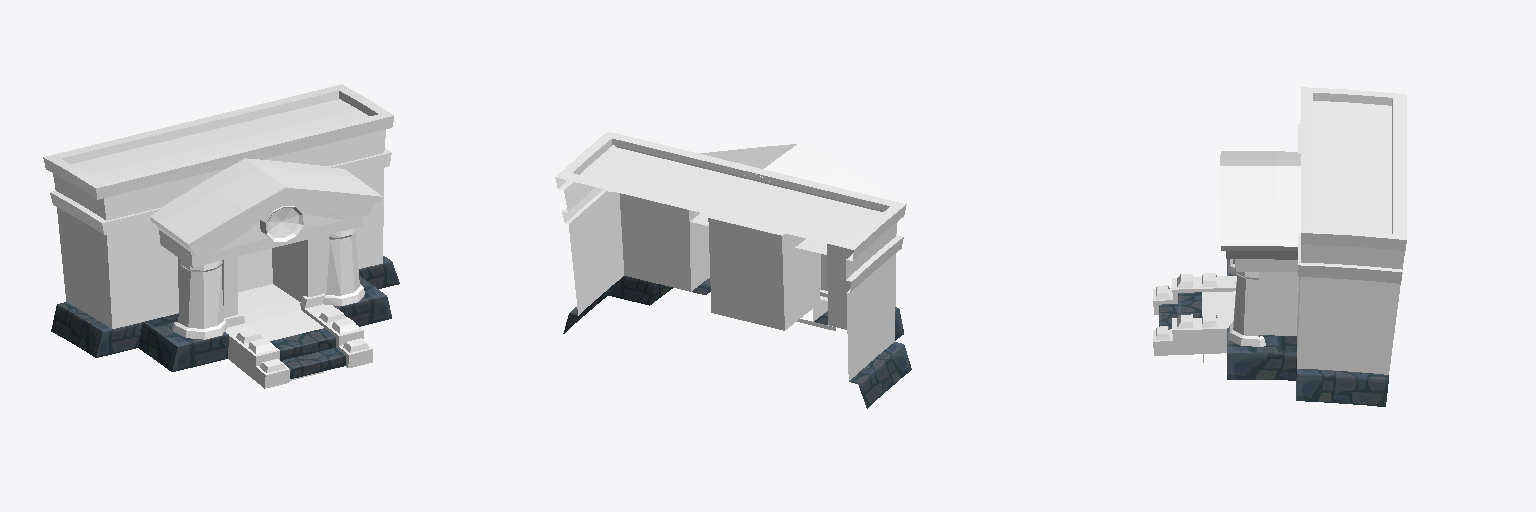
3 views of the same model, side by side, from view 1: azimuth 30°, elevation 25°; view 2: azimuth 150°, elevation 25°; view 3: azimuth 270°, elevation 25° (orthographic).
Bounding box in the file's own units: 248 × 150 × 179.
4 materials, 1 textured.